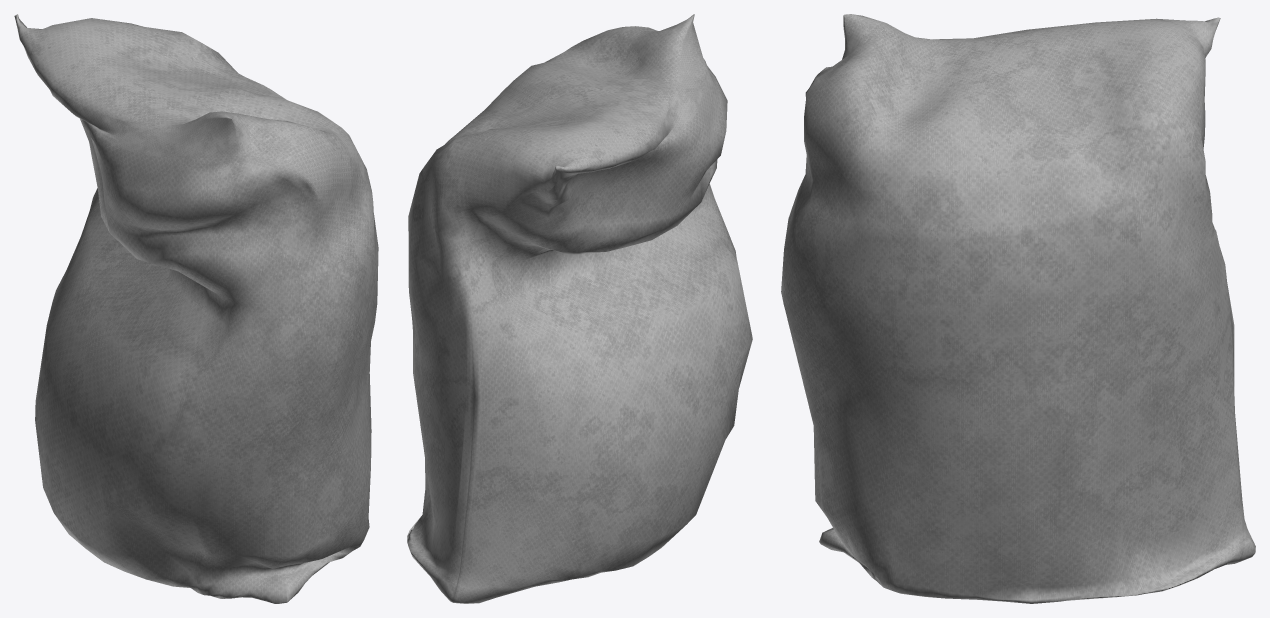
The model's file is SM_Sack-Lean-Single-A.fbx.
3 renders of one model, left to right at view 1: azimuth 30°, elevation 25°; view 2: azimuth 150°, elevation 25°; view 3: azimuth 270°, elevation 25°, orthographic. The views are drawn at different scales.
Visible parts, largest first — view 1: SM_Sack-Lean-Single-A_LOD0; view 2: SM_Sack-Lean-Single-A_LOD0; view 3: SM_Sack-Lean-Single-A_LOD0.
Boxes of the visible parts, <box> form: SM_Sack-Lean-Single-A_LOD0: <box>14,14,378,603</box>; SM_Sack-Lean-Single-A_LOD0: <box>407,14,752,603</box>; SM_Sack-Lean-Single-A_LOD0: <box>781,14,1255,603</box>.
Size of the model in its own units: 40.69 by 58.87 by 70.77.
1 material, 1 textured.
